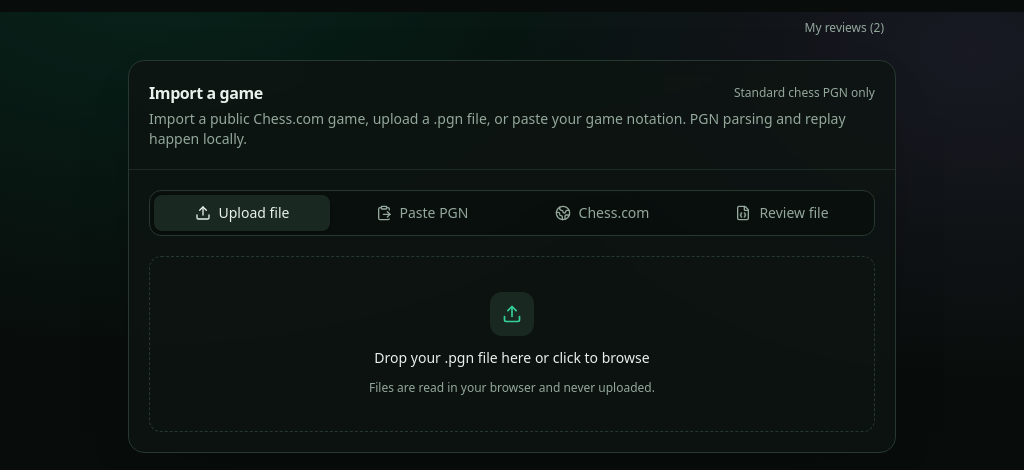
Test: Phase 6 saved-review, share and export UI › deletes one saved game and clears the rest after confirmation
Click the button "My reviews (2)" at (844, 28), box [792,12,896,44]
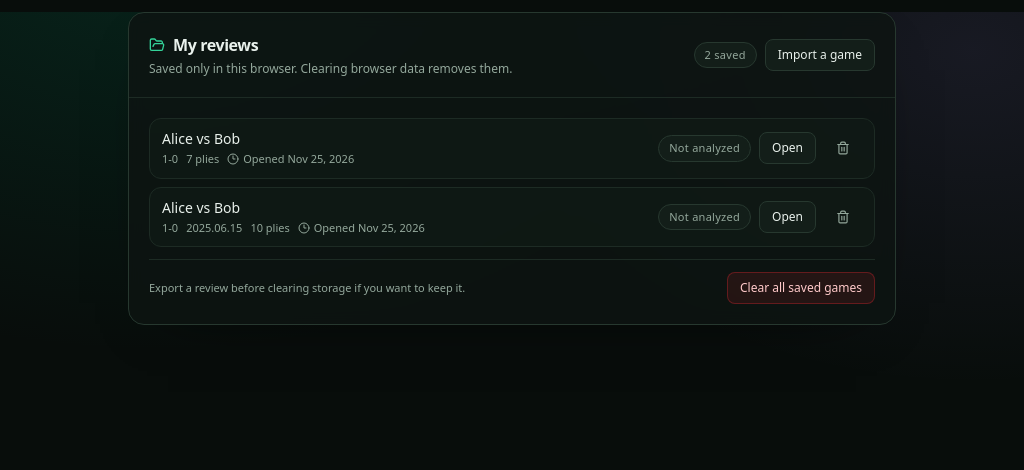
Click the 1st button named "Delete saved game" at (843, 148), box [824,132,862,164]
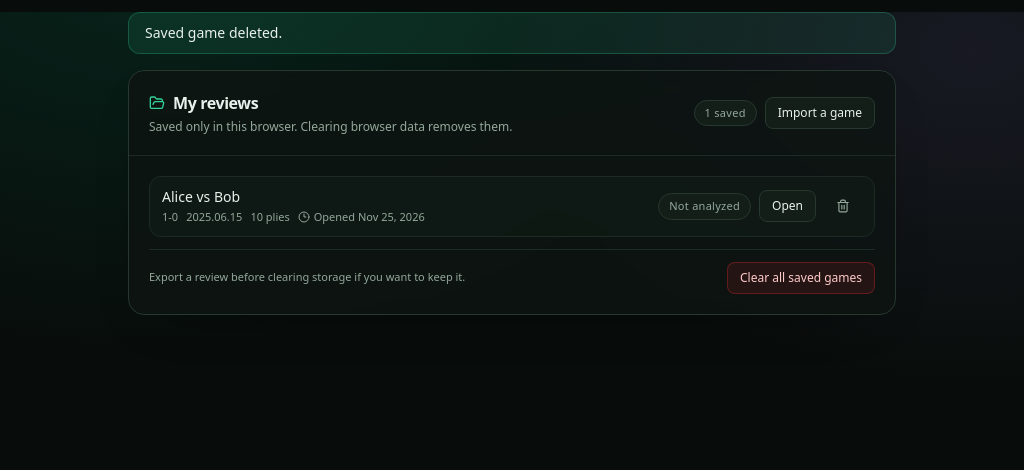
Click the button "Clear all saved games" at (801, 278), box [727,262,875,294]
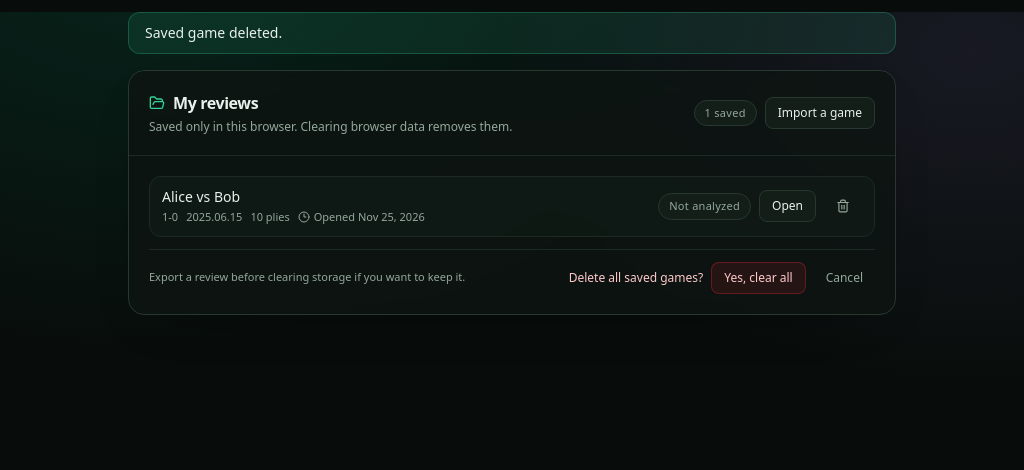
Check: the text "Delete all saved games?" is shown, box [569,270,703,286]
Click the button "Yes, clear all" at (758, 278), box [711,262,806,294]
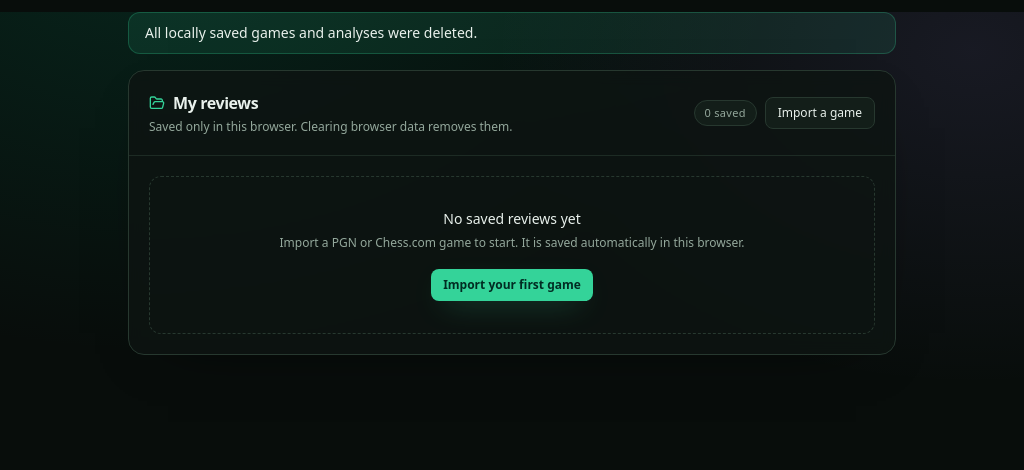
Check: the text "No saved reviews yet" is shown, box [443,209,581,228]
